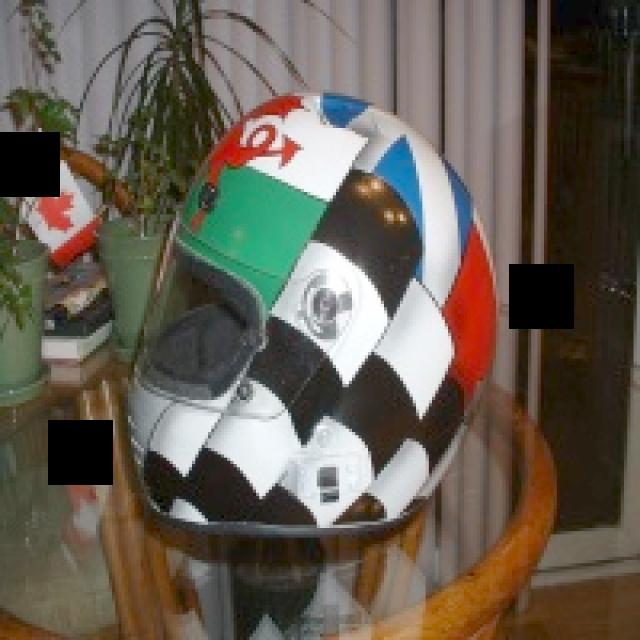Helmet: (130, 92, 496, 527)
